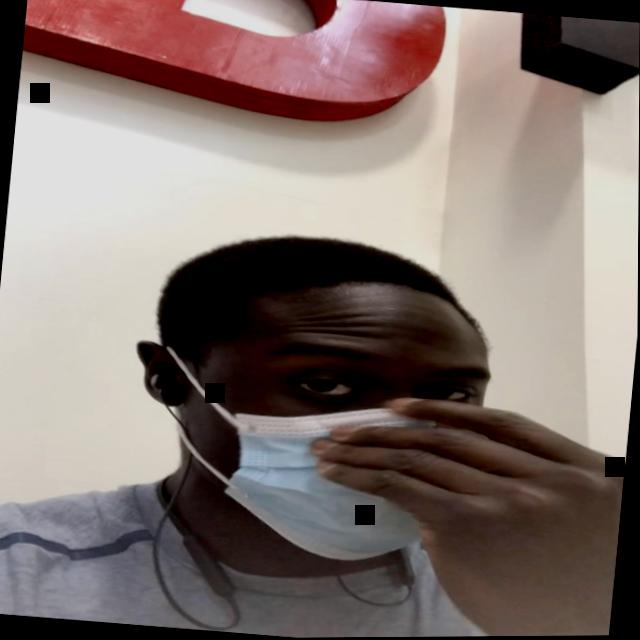Mask: (149, 278, 500, 573)
